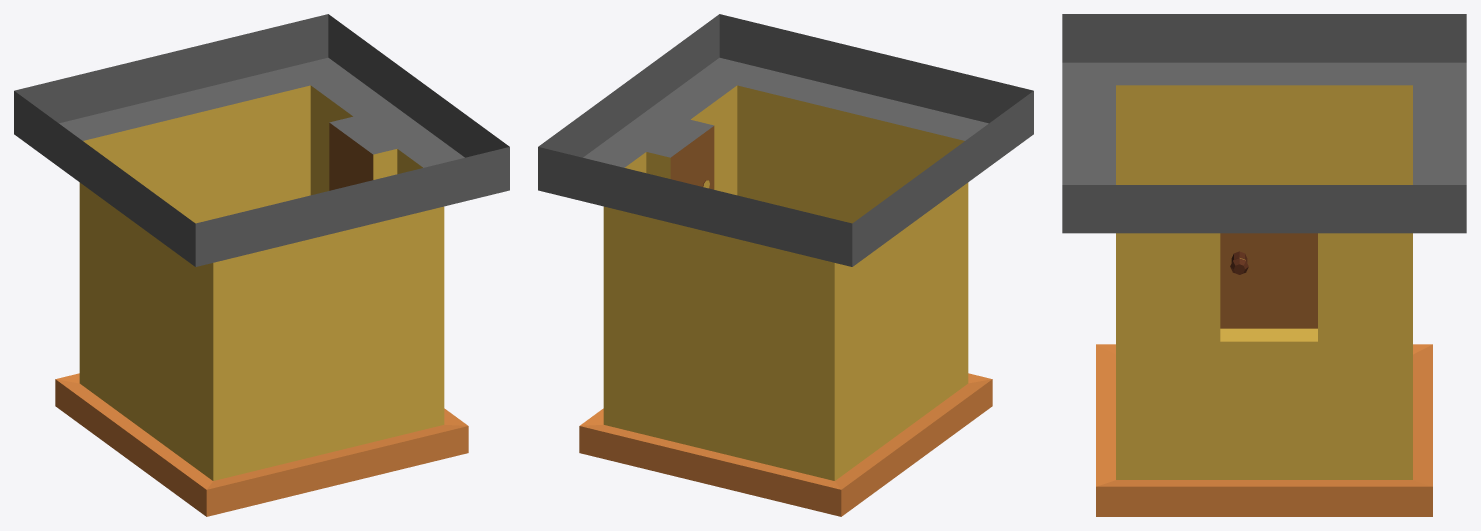
File: Building 2.fbx
The picture shows the model from 3 angles, left to right: view 1: azimuth 30°, elevation 25°; view 2: azimuth 150°, elevation 25°; view 3: azimuth 270°, elevation 25°; orthographic projection. The views are drawn at different scales.
Visible parts, largest first — view 1: Cube; view 2: Cube; view 3: Cube.
Boxes of the visible parts, bbox=[...] form: Cube: bbox=[14, 14, 509, 516]; Cube: bbox=[538, 14, 1033, 516]; Cube: bbox=[1062, 14, 1466, 516].
Bounding box in the file's own units: 671 × 634 × 671.
